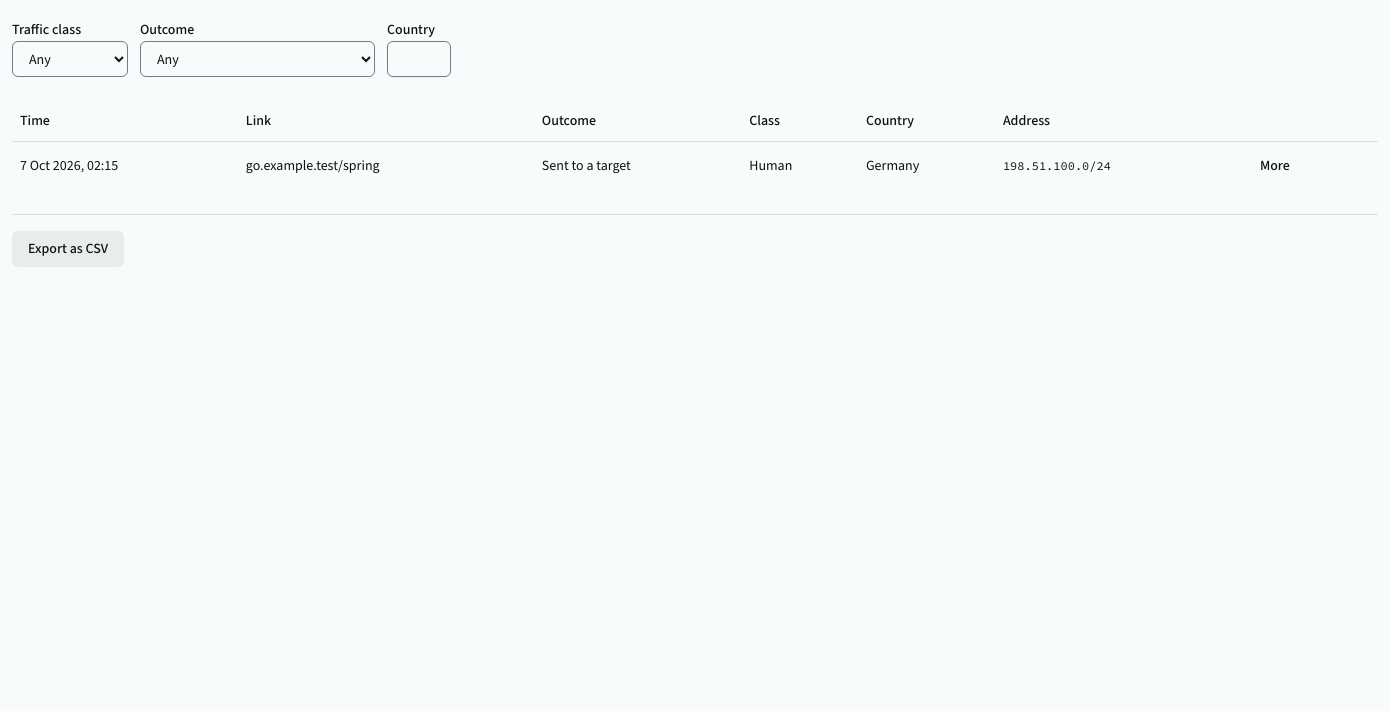
Test: the click log › shows a boolean field as Yes or No, not true or false
Click the button with aria-label "Show every field of this click" at (1275, 166), box [1248,150,1302,182]
(page scrolled)
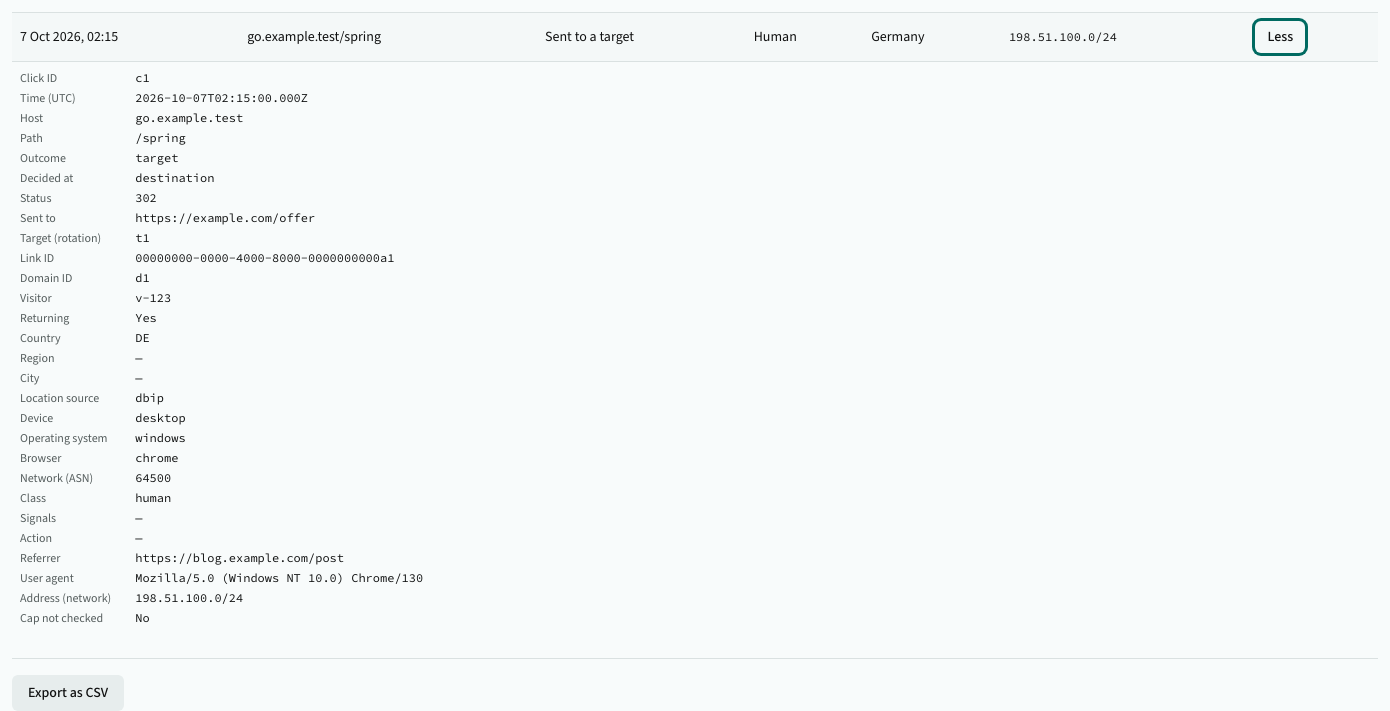
Expected: the text "Yes" is shown, [135,310,157,324]
Expected: the text "No" is shown, [135,610,150,624]
